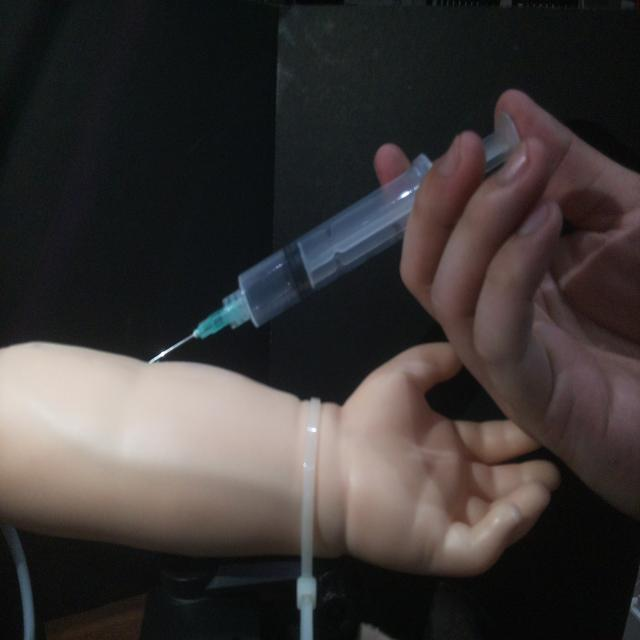26deg: (143, 107, 524, 367)
